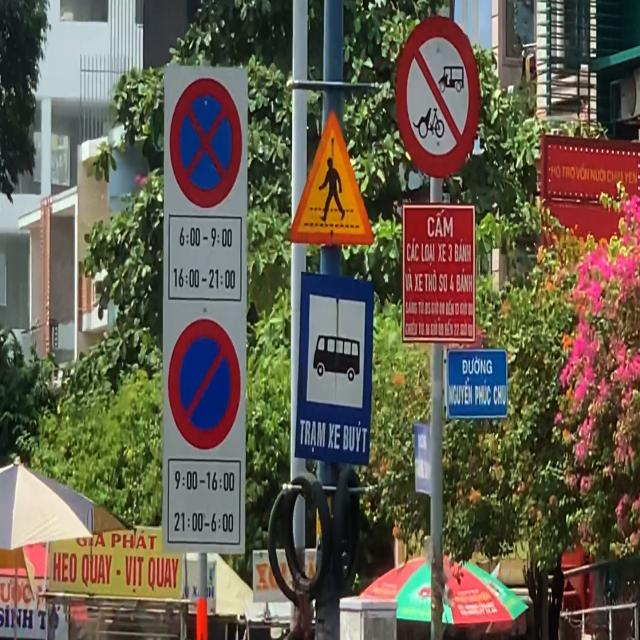Ben xe buyt: (293, 267, 376, 468)
Cam con lai: (394, 18, 480, 182)
Cam do: (168, 314, 244, 456)
Cam dung va do: (167, 73, 247, 213)
Nguoi di bo cat ngang: (284, 105, 376, 252)
